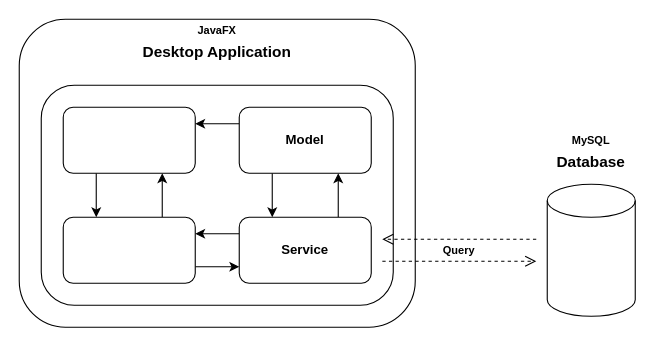
Some shapes in this 655 by 347 pixel diagram are drawn without their labels. The shapes that lost their labels are listed below. From the top down, each one's box as (x1, y1, x2, y2) in pixels, then its label:
(62, 106, 195, 173): View
(62, 216, 195, 283): Controller
